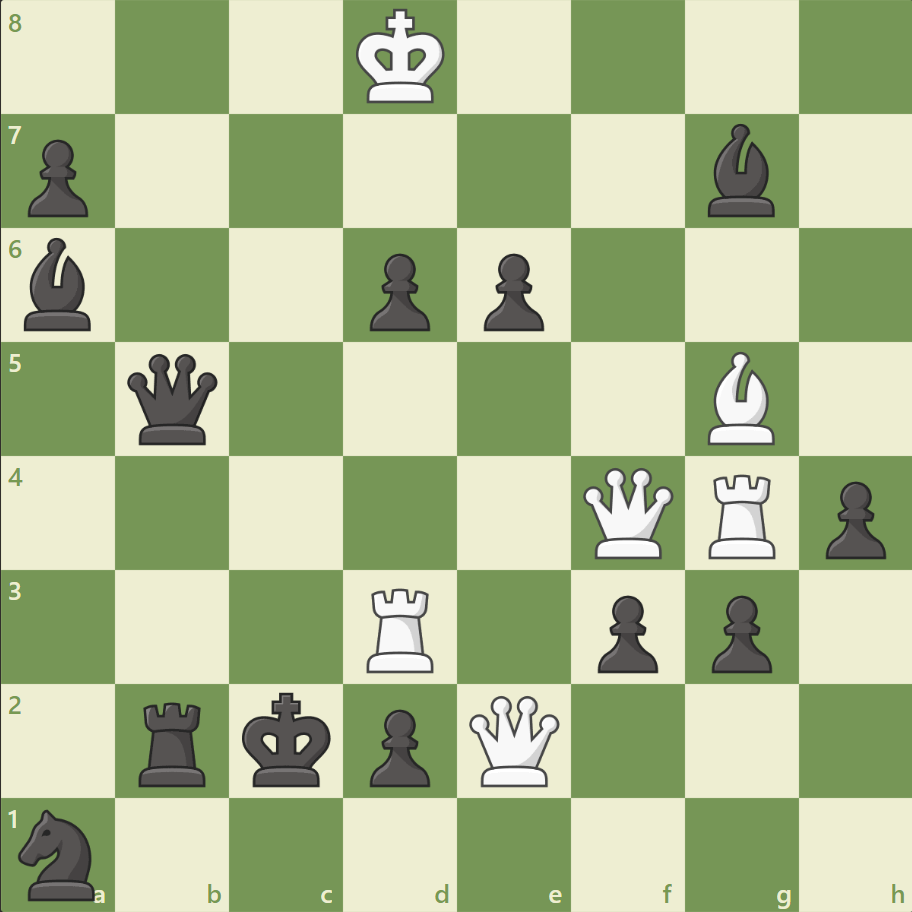B: (698, 347, 782, 449)
K: (351, 4, 451, 112)
Q: (578, 463, 677, 562), (464, 690, 563, 789)
R: (700, 466, 783, 563), (360, 579, 442, 676)
b: (17, 233, 101, 336), (698, 120, 782, 222)
k: (238, 685, 338, 793)
n: (11, 802, 108, 904)
p: (20, 132, 95, 223), (474, 246, 549, 337), (701, 586, 776, 677), (361, 246, 435, 337), (815, 473, 889, 564), (588, 586, 662, 677), (361, 700, 435, 791)
q: (124, 349, 223, 449)
r: (133, 693, 215, 790)
